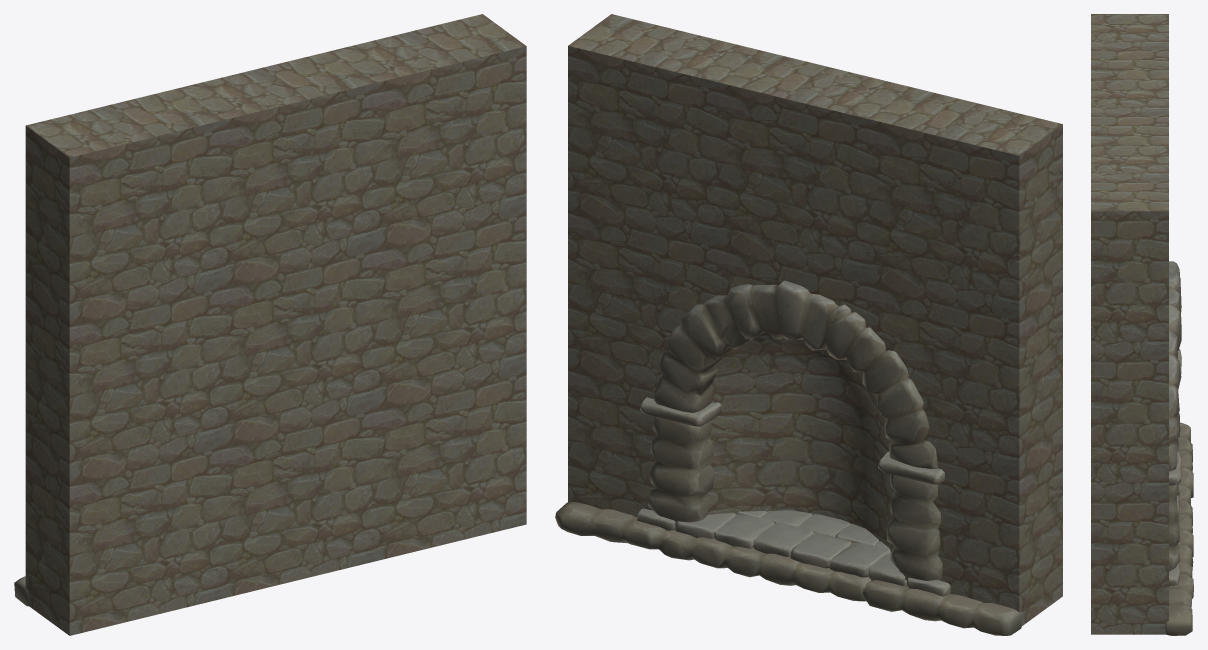
File: SM_FW01_Ruins_Int_Wall_B_6x6_02.fbx
3 views of the same model, side by side, from view 1: azimuth 30°, elevation 25°; view 2: azimuth 150°, elevation 25°; view 3: azimuth 270°, elevation 25° (orthographic). The views are drawn at different scales.
Visible parts, largest first — view 1: SM_FW01_Ruins_Int_Wall_B_6x6_02; view 2: SM_FW01_Ruins_Int_Wall_B_6x6_02, SM_FW01_Ruins_Int_Wall_B_6x6_02_LOD0; view 3: SM_FW01_Ruins_Int_Wall_B_6x6_02, SM_FW01_Ruins_Int_Wall_B_6x6_02_LOD0.
Part boxes in pixels (bbox=[...]): SM_FW01_Ruins_Int_Wall_B_6x6_02: bbox=[25, 14, 526, 635]; SM_FW01_Ruins_Int_Wall_B_6x6_02: bbox=[568, 14, 1062, 626]; SM_FW01_Ruins_Int_Wall_B_6x6_02_LOD0: bbox=[555, 280, 1022, 635]; SM_FW01_Ruins_Int_Wall_B_6x6_02: bbox=[1091, 14, 1168, 634]; SM_FW01_Ruins_Int_Wall_B_6x6_02_LOD0: bbox=[1165, 261, 1193, 635].
Size of what is drawn, in the model's own units: 6.04 by 6.06 by 1.32.
